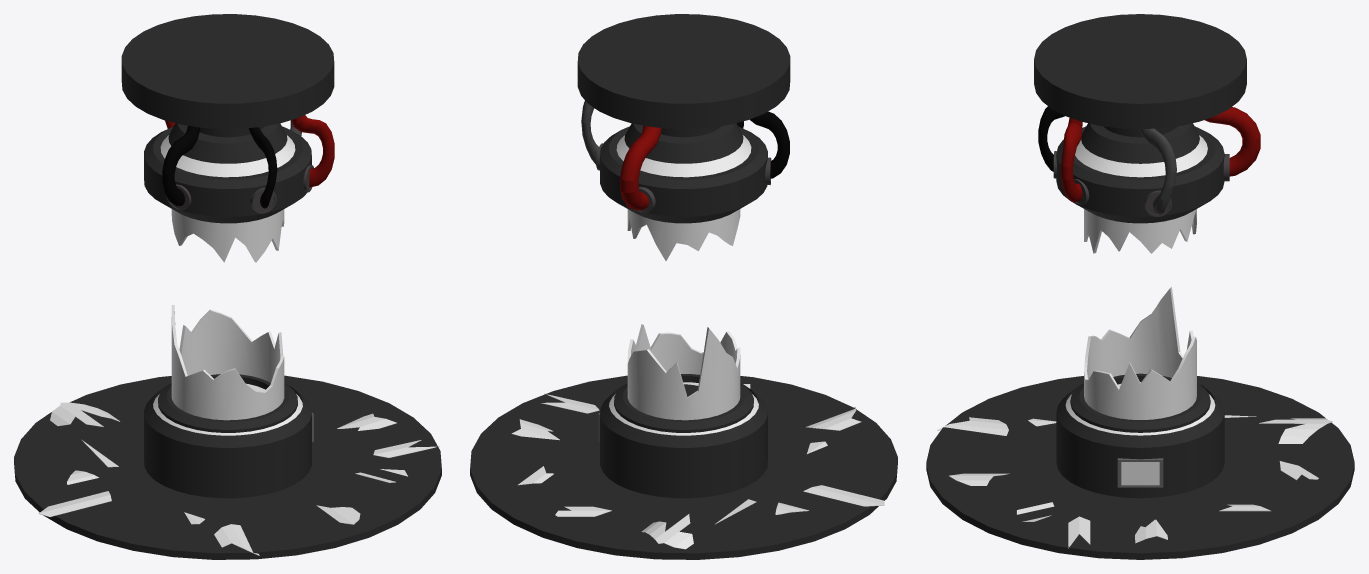
Rendered from monster chamber.fbx.
The picture shows the model from 3 angles, left to right: view 1: azimuth 30°, elevation 25°; view 2: azimuth 150°, elevation 25°; view 3: azimuth 270°, elevation 25°; orthographic projection.
Visible parts, largest first — view 1: base and top, glass, Cylinder.022, base and top.001, tube.003, tube, tube.002, base and top.002; view 2: base and top, glass, Cylinder.022, base and top.001, tube.001, tube, base and top.002, tube.004; view 3: base and top, glass, Cylinder.022, base and top.001, tube.001, tube.004, tube.003, Cube.001, base and top.002, tube.002, Cube.
Part boxes in pixels (left/top/right/bottom): base and top: left=14, top=14, right=441, bottom=559; glass: left=171, top=209, right=284, bottom=420; Cylinder.022: left=38, top=402, right=439, bottom=555; base and top.001: left=160, top=135, right=295, bottom=177; tube.003: left=291, top=115, right=334, bottom=187; tube: left=162, top=125, right=200, bottom=205; tube.002: left=248, top=127, right=277, bottom=208; base and top.002: left=153, top=394, right=302, bottom=435; base and top: left=470, top=14, right=897, bottom=559; glass: left=627, top=209, right=740, bottom=420; Cylinder.022: left=511, top=384, right=884, bottom=549; base and top.001: left=616, top=135, right=751, bottom=177; tube.001: left=620, top=125, right=661, bottom=210; tube: left=750, top=111, right=789, bottom=178; base and top.002: left=609, top=394, right=758, bottom=435; tube.004: left=581, top=100, right=598, bottom=164; base and top: left=926, top=14, right=1354, bottom=559; glass: left=1084, top=209, right=1196, bottom=419; Cylinder.022: left=937, top=415, right=1332, bottom=548; base and top.001: left=1075, top=135, right=1207, bottom=177; tube.001: left=1204, top=107, right=1260, bottom=176; tube.004: left=1139, top=128, right=1176, bottom=214; tube.003: left=1061, top=118, right=1082, bottom=201; Cube.001: left=1121, top=462, right=1159, bottom=485; base and top.002: left=1065, top=394, right=1215, bottom=435; tube.002: left=1038, top=106, right=1064, bottom=171; Cube: left=1117, top=458, right=1163, bottom=487.
Bounding box in the file's own units: 7195 × 7415 × 7017.
